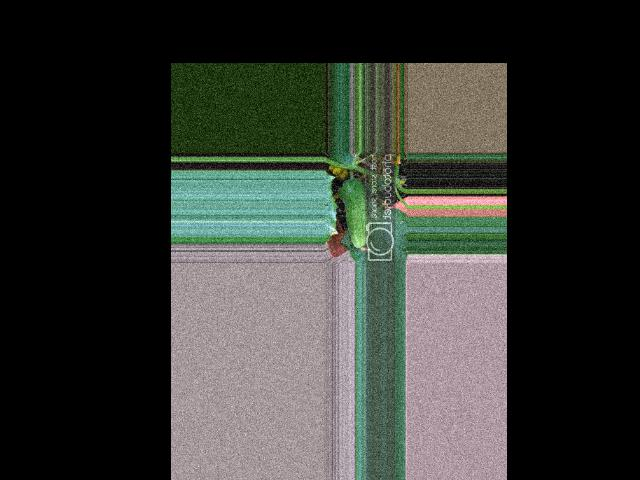cucumber: (342, 180, 369, 248)
